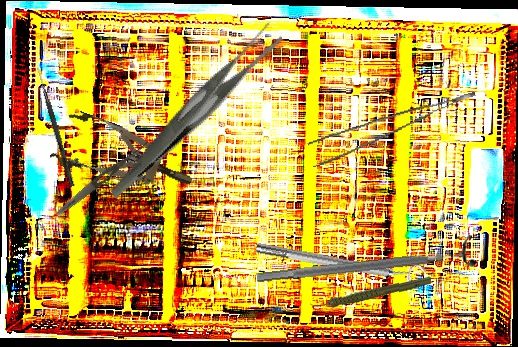Dressing Forceps: (74, 19, 314, 200), (54, 137, 151, 219)
Fixation Ring: (254, 233, 477, 295), (253, 232, 428, 293)
Handpiece: (309, 273, 432, 311)
Hook Surgical: (34, 66, 76, 188)
Speculum: (48, 106, 201, 210)
Tissue Forceps: (304, 91, 484, 168)
